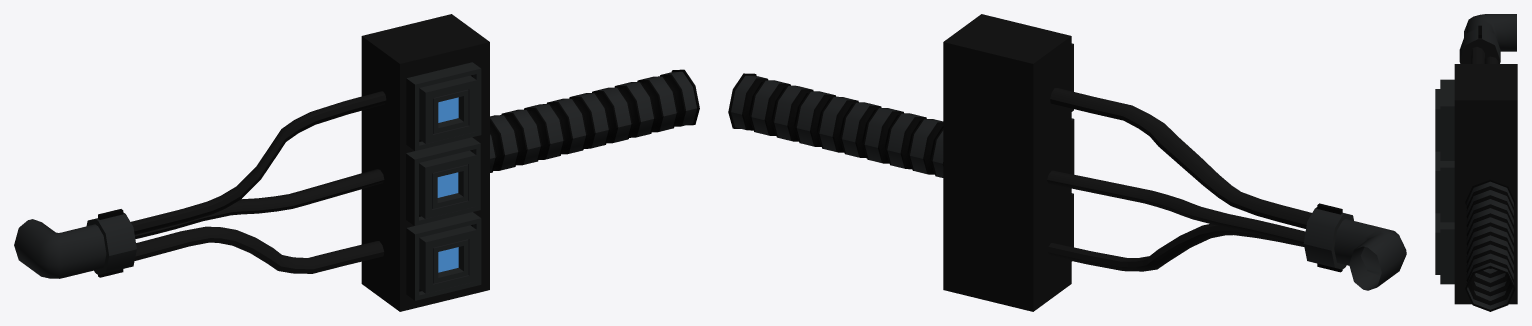
The model's file is Conector_Triple_Assemble.fbx.
3 renders of one model, left to right at view 1: azimuth 30°, elevation 25°; view 2: azimuth 150°, elevation 25°; view 3: azimuth 270°, elevation 25°, orthographic. The views are drawn at different scales.
Visible parts, largest first — view 1: Conector_Triple_Assemble; view 2: Conector_Triple_Assemble; view 3: Conector_Triple_Assemble.
Boxes of the visible parts, x1,y1,x2,y2 form: Conector_Triple_Assemble: (14,14,699,311); Conector_Triple_Assemble: (728,14,1406,311); Conector_Triple_Assemble: (1435,14,1517,311).
Size of the model in its own units: 96.36 by 34.88 by 12.77.
